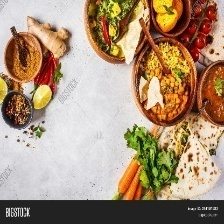roti: (148, 109, 223, 200)
